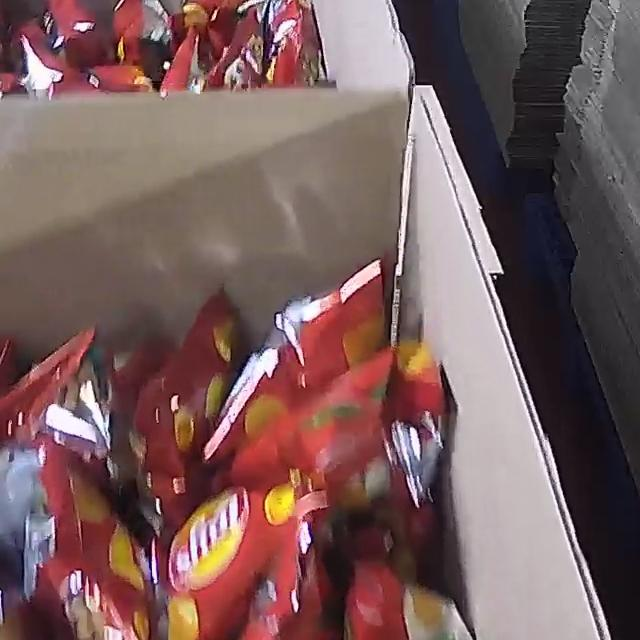masala: (0, 263, 504, 640), (0, 0, 320, 97)
